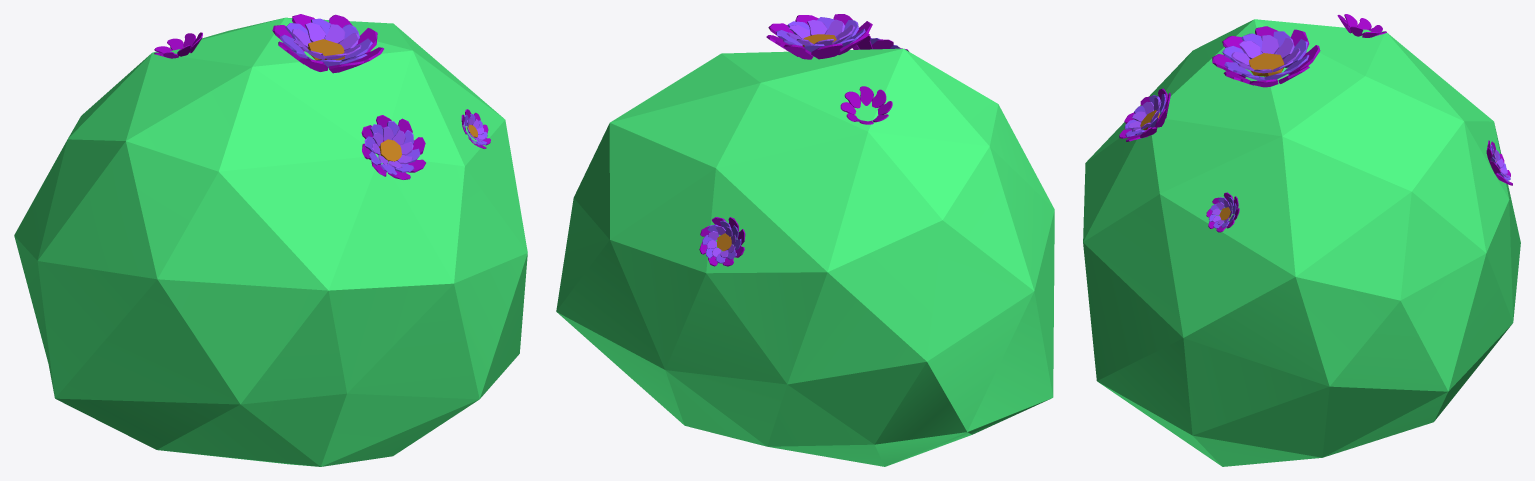
The model's file is zbun3.fbx.
3 views of the same model, side by side, from view 1: azimuth 30°, elevation 25°; view 2: azimuth 150°, elevation 25°; view 3: azimuth 270°, elevation 25° (orthographic). The views are drawn at different scales.
Visible parts, largest first — view 1: zbunsuma4; view 2: zbunsuma4; view 3: zbunsuma4.
Boxes of the visible parts, x1,y1,x2,y2 form: zbunsuma4: [14, 14, 527, 466]; zbunsuma4: [556, 14, 1054, 466]; zbunsuma4: [1083, 14, 1520, 466].
Size of the model in its own units: 176 by 154 by 151.
